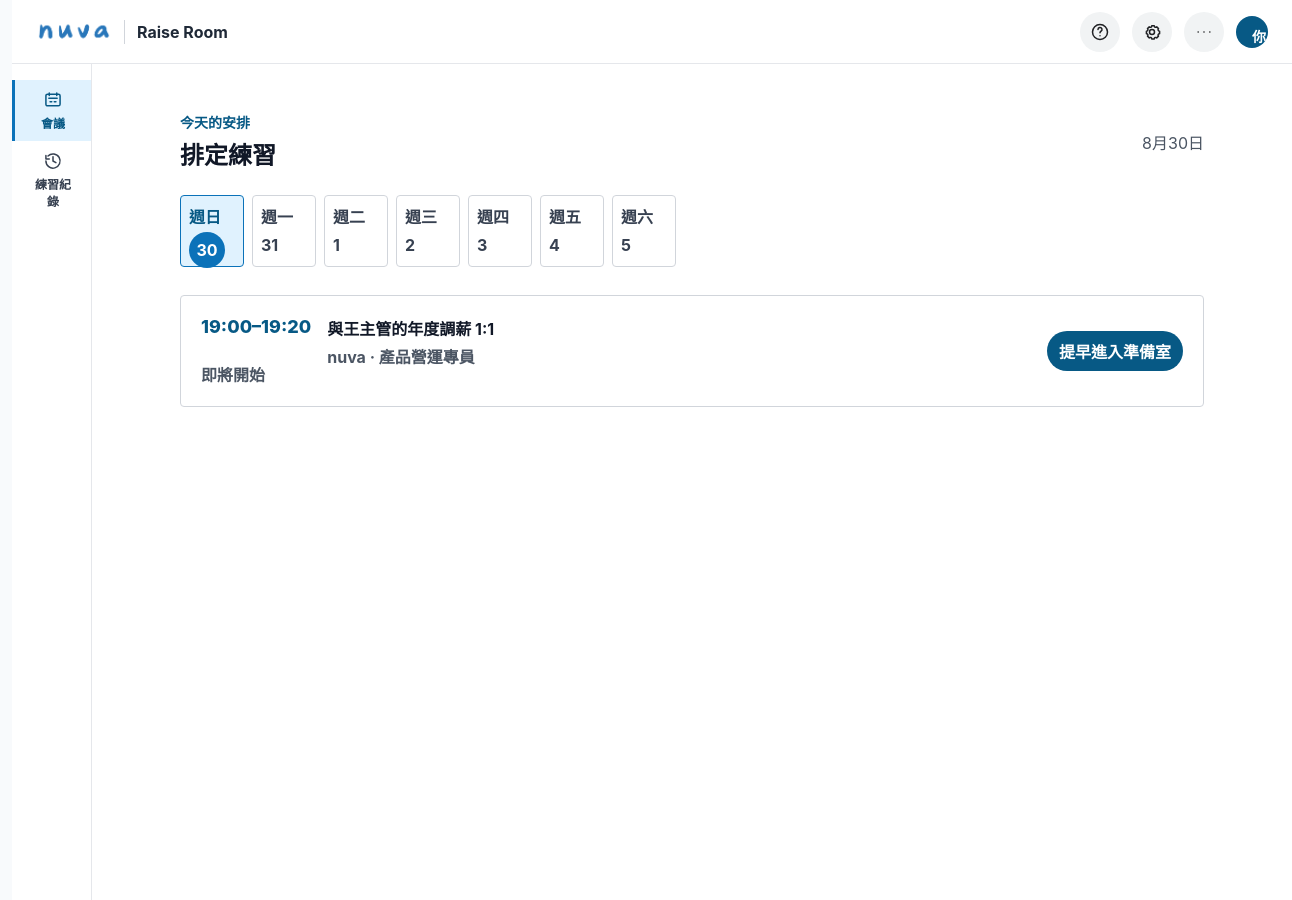
Scenario: auto-rolls an expired schedule only while home is active
Expected: the text "19:00–19:20" is shown, [201,316,311,337]
Step 1. Click the button "19:00–19:20 即將開始 與王主管的年度調薪 1:1 nuva · 產品營運專員 提早進入準備室" → [256, 326], box [180,295,1204,407]
Wait 60000 ms
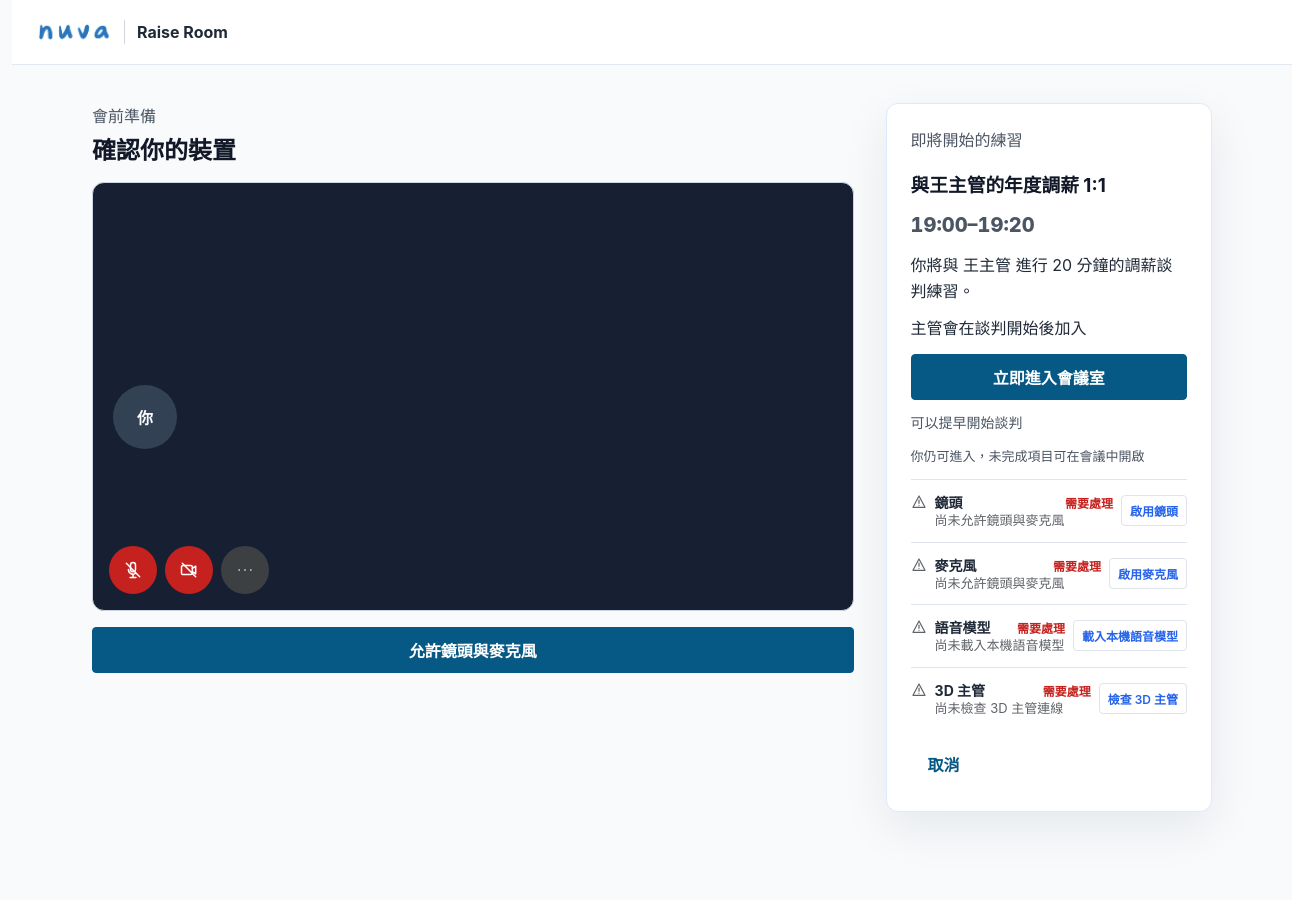
Now the heading "確認你的裝置" is shown, box [92,136,236,165]
